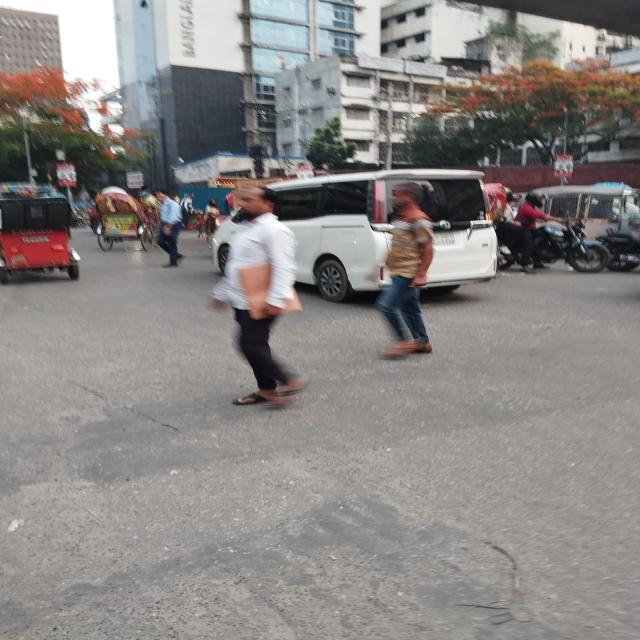person: (211, 188, 306, 406), (376, 182, 434, 358), (154, 189, 184, 268)
